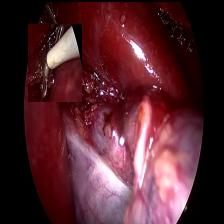Hook: (27, 23, 80, 101)
